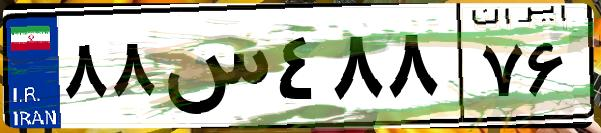4: (270, 28, 330, 110)
6: (525, 38, 570, 115)
7: (475, 38, 525, 113)
8: (385, 28, 445, 110), (330, 28, 385, 110), (57, 26, 110, 100), (110, 28, 158, 98)
س: (158, 20, 270, 120)
